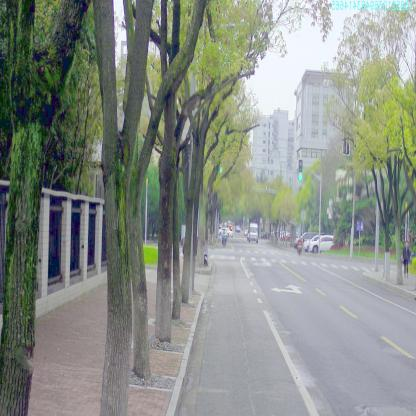traffic-light: (298, 158, 303, 181), (219, 160, 223, 173)
